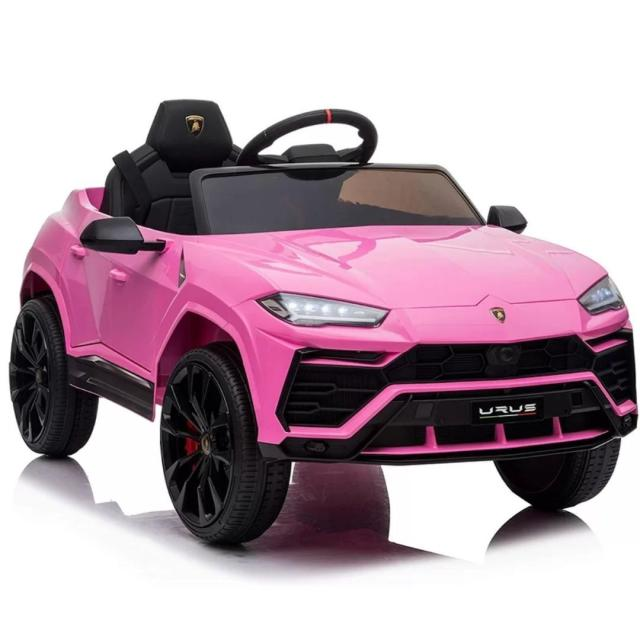Car: (8, 98, 638, 547)
